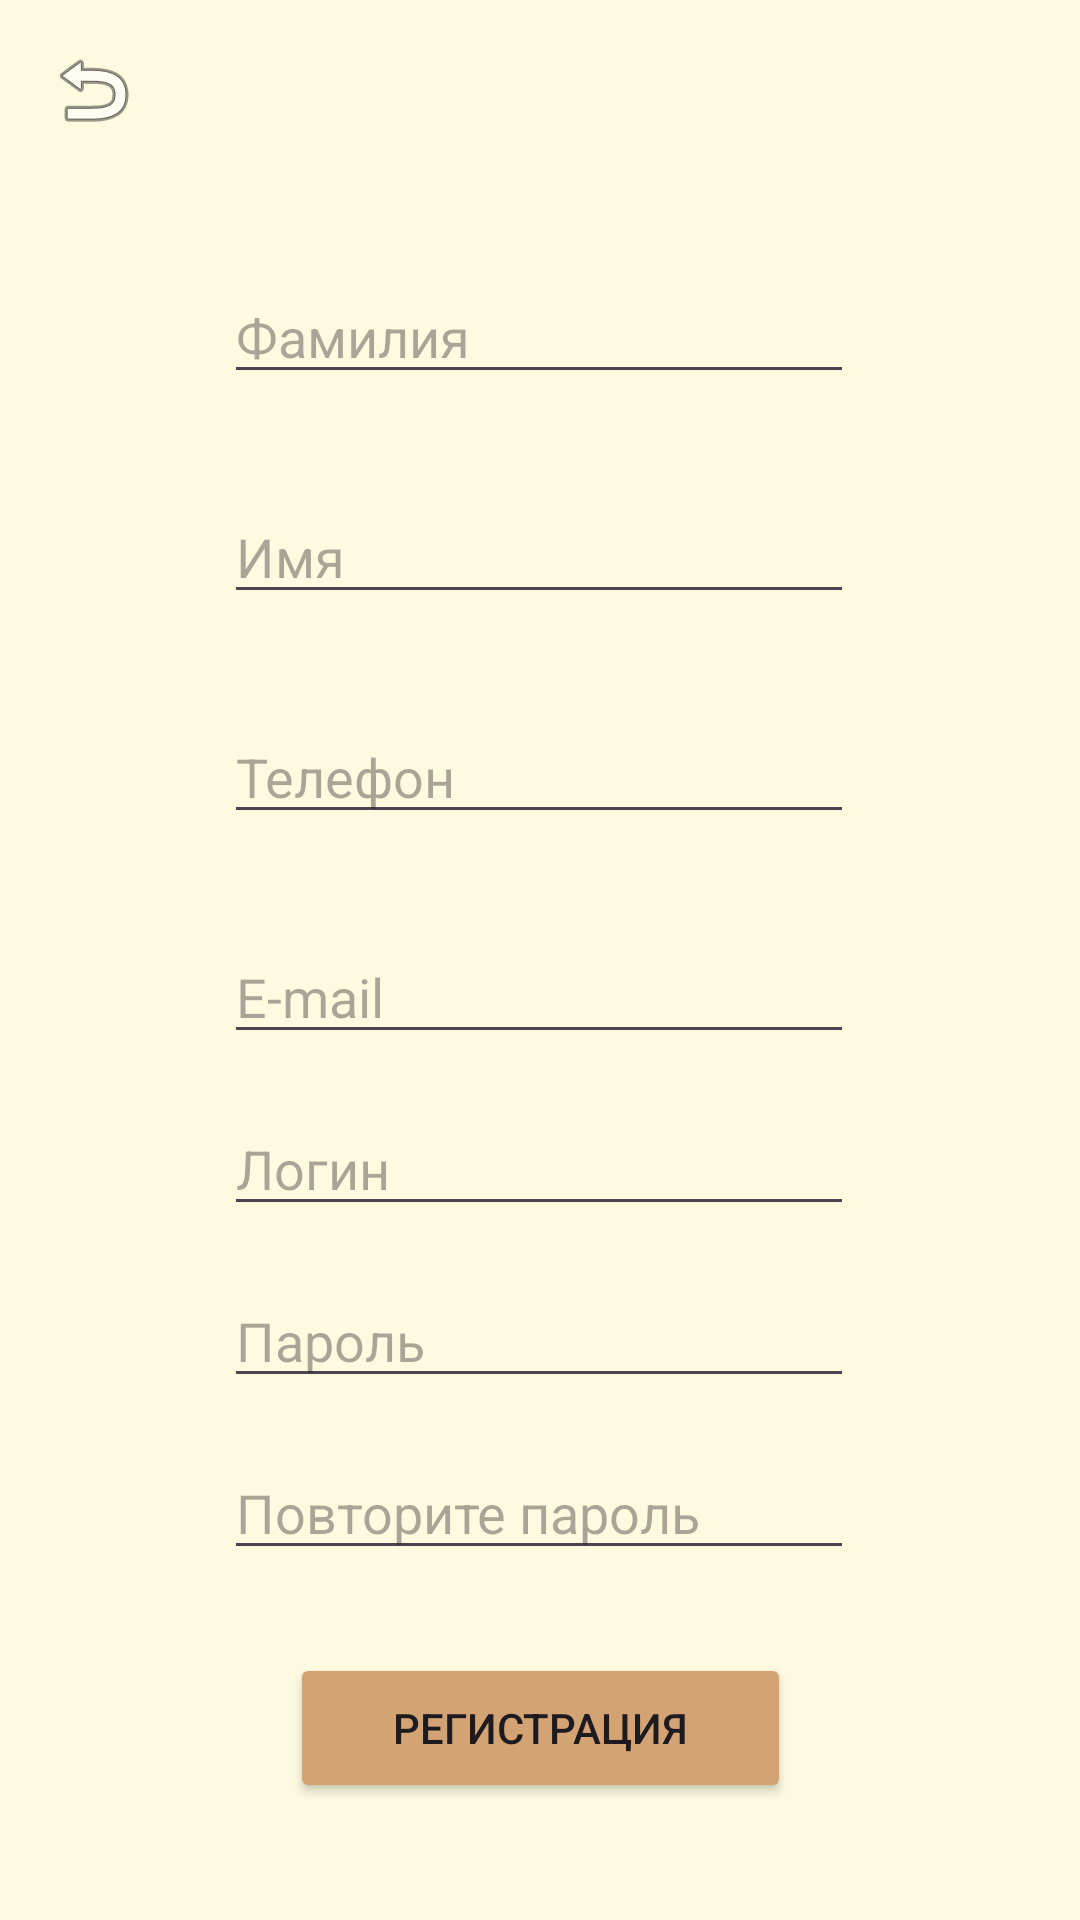

Point at icon controls on the screen. Image size 1080px x 1920px, points as (x,y).
revert: (94,90)
